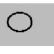no answer: (5, 9, 35, 34)
